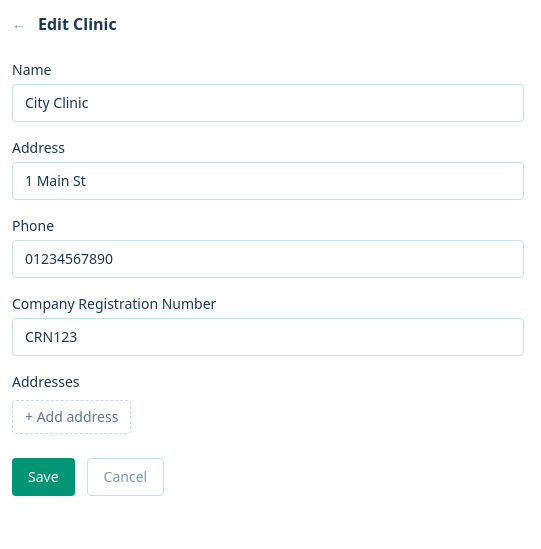
ClinicEditClient — edit form › shows generic save error for non-Error rejection
Click the button "Save" at (43,477), box x1=12 y1=458 x2=75 y2=496
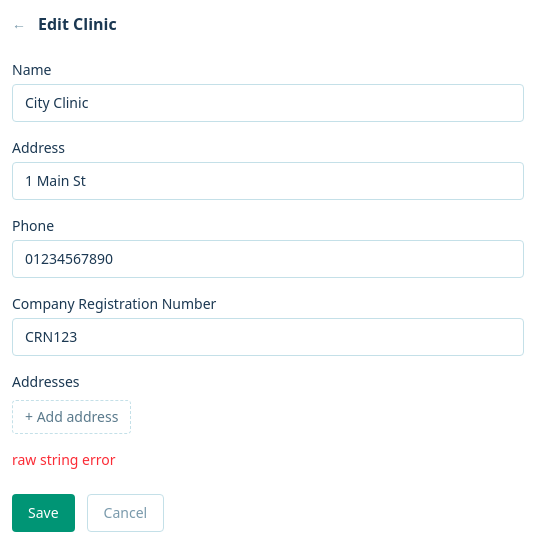
Expected: the text "raw string error" is shown, x1=12 y1=450 x2=116 y2=469
